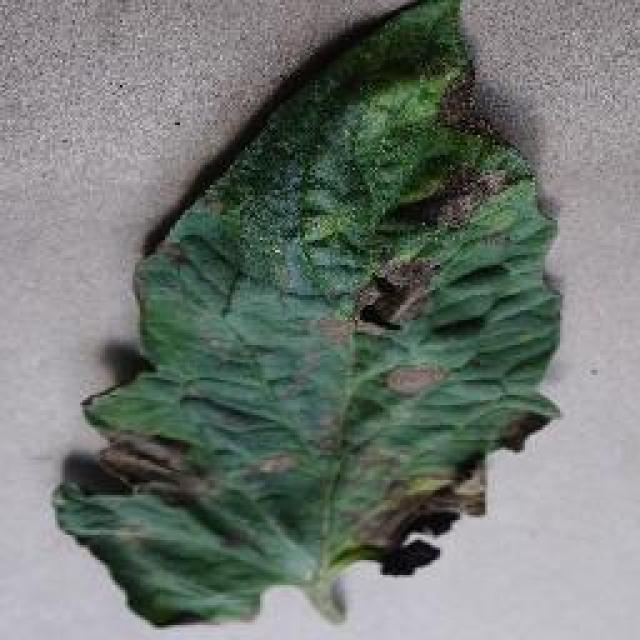Tomato___Early_blight: (47, 0, 570, 635)
